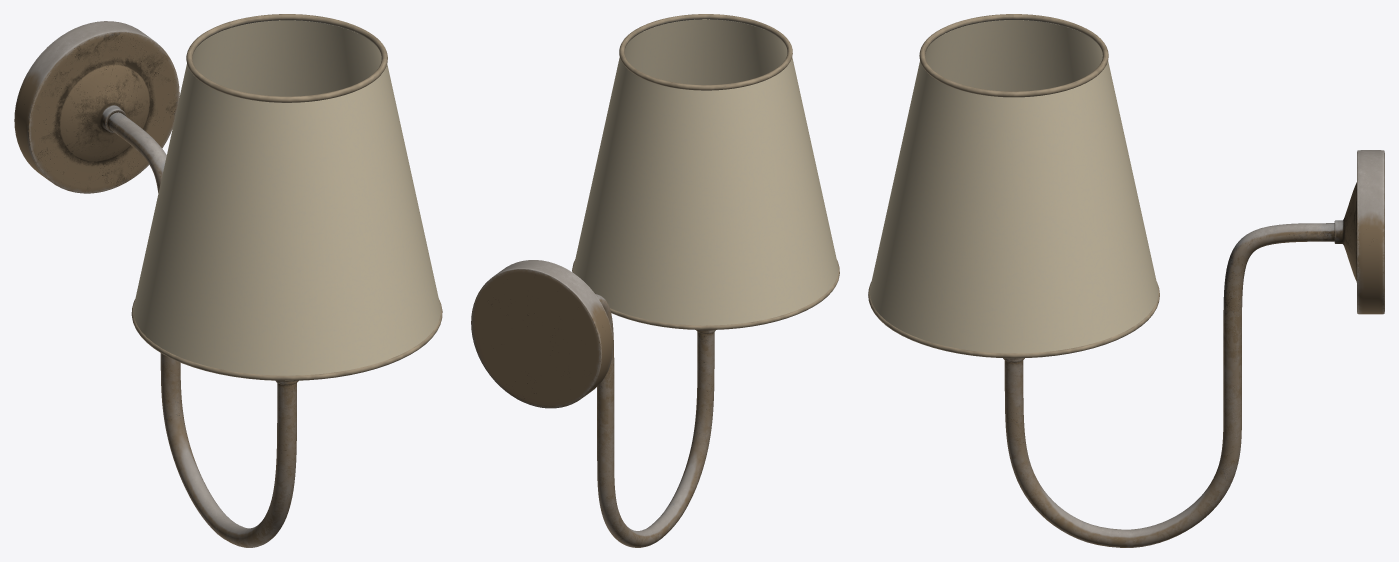
The model's file is Wall Lamp.fbx.
3 views of the same model, side by side, from view 1: azimuth 30°, elevation 25°; view 2: azimuth 150°, elevation 25°; view 3: azimuth 270°, elevation 25° (orthographic). The views are drawn at different scales.
Visible parts, largest first — view 1: Wall Lamp; view 2: Wall Lamp; view 3: Wall Lamp.
Boxes of the visible parts, box(x1,y1,x2,y2) form: Wall Lamp: box(14, 14, 442, 547); Wall Lamp: box(471, 14, 839, 547); Wall Lamp: box(868, 14, 1384, 547).
Size of the model in its own units: 15.73 by 29.37 by 27.84.
